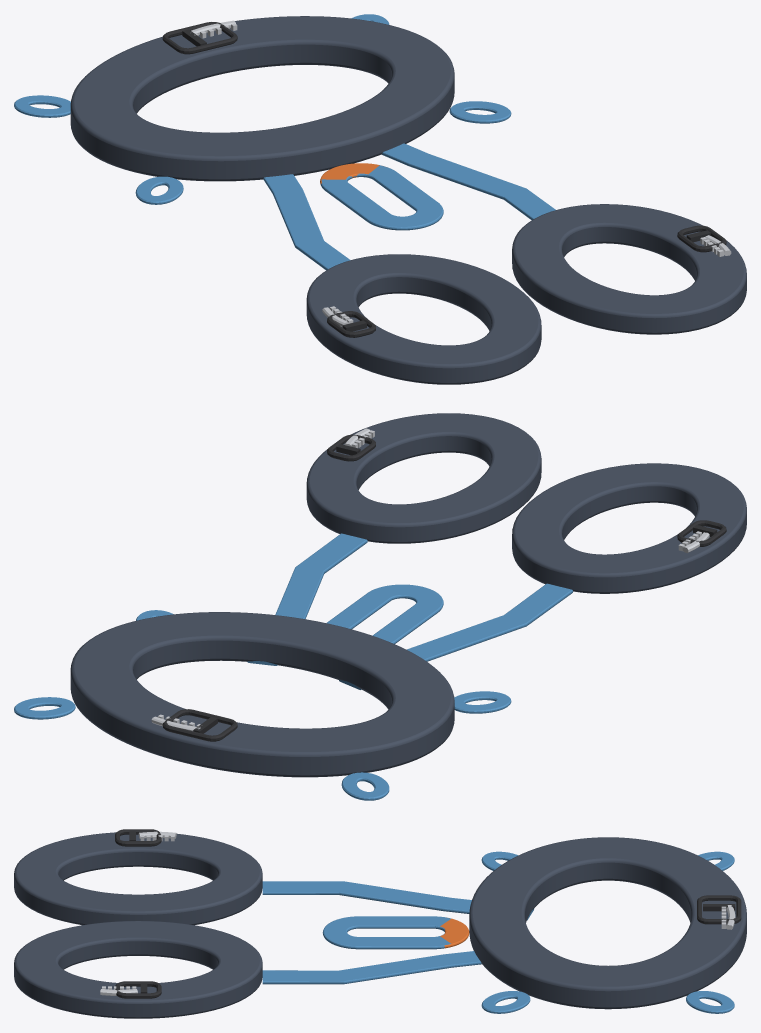
The model's file is harness.fbx.
3 renders of one model, top to bottom at view 1: azimuth 30°, elevation 25°; view 2: azimuth 150°, elevation 25°; view 3: azimuth 270°, elevation 25°, orthographic. The views are drawn at different scales.
Parts seen in each view (by area): view 1: HARNESS_WaistBelt, HARNESS_LegLoop_L, HARNESS_LegLoop_R, HARNESS_BelayLoop, HARNESS_Buckles, HARNESS_Riser_R, HARNESS_GearLoops, HARNESS_Riser_L; view 2: HARNESS_WaistBelt, HARNESS_LegLoop_R, HARNESS_LegLoop_L, HARNESS_Buckles, HARNESS_Riser_L, HARNESS_BelayLoop, HARNESS_GearLoops, HARNESS_Riser_R; view 3: HARNESS_WaistBelt, HARNESS_LegLoop_R, HARNESS_LegLoop_L, HARNESS_BelayLoop, HARNESS_Riser_R, HARNESS_Riser_L, HARNESS_Buckles, HARNESS_GearLoops.
Boxes of the visible parts, box(x1,y1,x2,y2) form: HARNESS_WaistBelt: box(70, 16, 454, 181); HARNESS_LegLoop_L: box(306, 254, 541, 384); HARNESS_LegLoop_R: box(512, 204, 746, 334); HARNESS_BelayLoop: box(320, 163, 443, 230); HARNESS_Buckles: box(162, 20, 731, 337); HARNESS_Riser_R: box(382, 143, 555, 220); HARNESS_GearLoops: box(14, 14, 511, 204); HARNESS_Riser_L: box(263, 174, 350, 270); HARNESS_WaistBelt: box(70, 612, 454, 777); HARNESS_LegLoop_R: box(306, 413, 541, 543); HARNESS_LegLoop_L: box(512, 463, 746, 593); HARNESS_Buckles: box(151, 428, 726, 741); HARNESS_Riser_L: box(339, 583, 572, 689); HARNESS_BelayLoop: box(326, 584, 443, 643); HARNESS_GearLoops: box(14, 610, 511, 800); HARNESS_Riser_R: box(247, 533, 367, 665); HARNESS_WaistBelt: box(469, 837, 746, 1009); HARNESS_LegLoop_R: box(14, 921, 262, 1018); HARNESS_LegLoop_L: box(14, 832, 262, 925); HARNESS_BelayLoop: box(322, 916, 469, 949); HARNESS_Riser_R: box(262, 951, 481, 984); HARNESS_Riser_L: box(262, 881, 534, 920); HARNESS_Buckles: box(100, 829, 741, 998); HARNESS_GearLoops: box(481, 851, 734, 1013).
Bounding box in the file's own units: 0.364 × 0.0265 × 0.6601.
